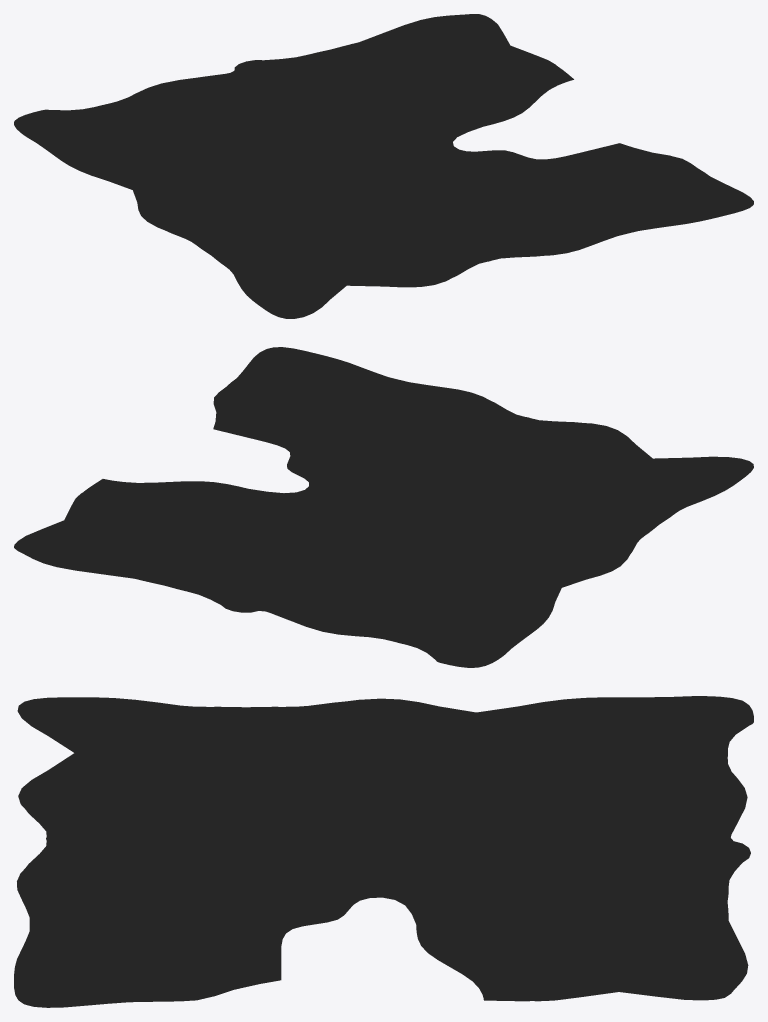
The model's file is capa.fbx.
The picture shows the model from 3 angles, top to bottom: view 1: azimuth 30°, elevation 25°; view 2: azimuth 150°, elevation 25°; view 3: azimuth 270°, elevation 25°; orthographic projection. The views are drawn at different scales.
Parts seen in each view (by area): view 1: Plane; view 2: Plane; view 3: Plane.
Boxes of the visible parts, box(x1,y1,x2,y2) form: Plane: box(14, 14, 753, 318); Plane: box(14, 347, 753, 667); Plane: box(14, 696, 753, 1007).
Bounding box in the file's own units: 995 × 0.000163 × 998.
